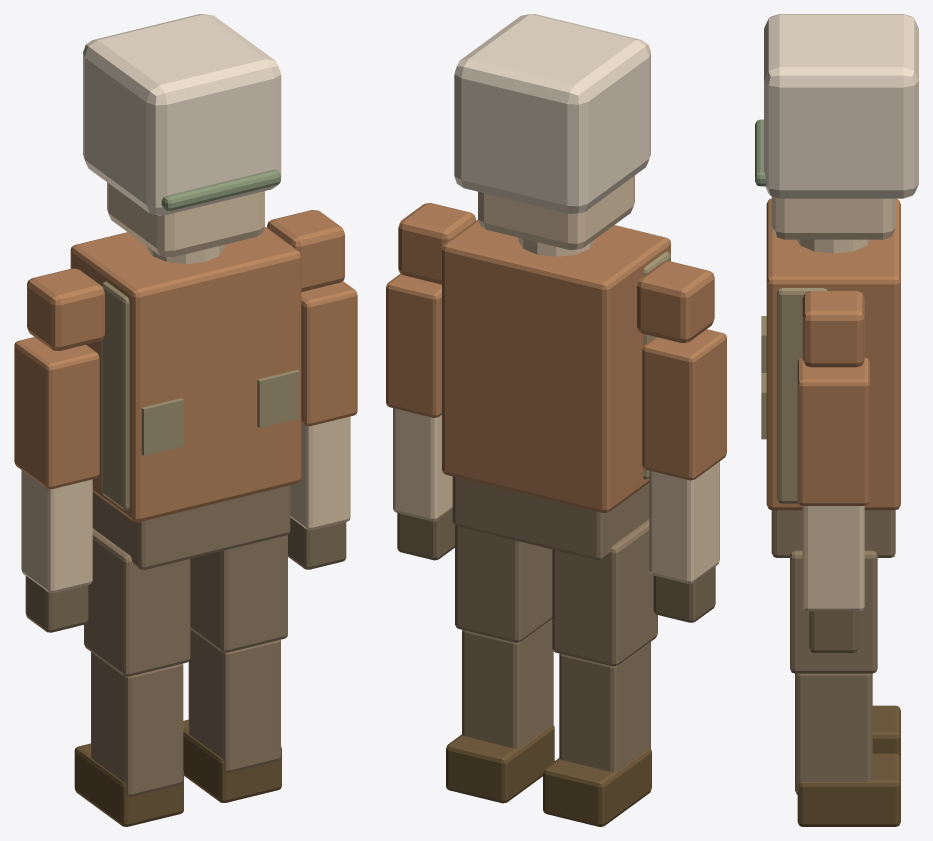
Rendered from soldier_t.glb.
3 renders of one model, left to right at view 1: azimuth 30°, elevation 25°; view 2: azimuth 150°, elevation 25°; view 3: azimuth 270°, elevation 25°, orthographic.
Visible parts, largest first — view 1: Torso, Keffiyeh, UpperArm_L, UpperLeg_L, LowerLeg_L, LowerLeg_R, UpperLeg_R, Pelvis, UpperArm_R, ForeArm_L, Head, Vest (+11 smaller); view 2: Torso, Keffiyeh, UpperArm_L, UpperLeg_L, LowerLeg_L, LowerLeg_R, UpperLeg_R, Pelvis, UpperArm_R, ForeArm_L, Boot_L, Head (+7 smaller); view 3: Keffiyeh, Torso, UpperArm_R, LowerLeg_R, ForeArm_R, Boot_R, UpperLeg_R, Head, Vest, Shoulder_R, Pelvis, Hand_R (+5 smaller).
Boxes of the visible parts, box(x1,y1,x2,y2) form: Torso: box(70, 226, 301, 522); Keffiyeh: box(83, 14, 281, 215); UpperArm_L: box(14, 337, 99, 489); UpperLeg_L: box(84, 528, 190, 676); LowerLeg_L: box(91, 652, 183, 796); LowerLeg_R: box(188, 629, 280, 773); UpperLeg_R: box(190, 535, 287, 652); Pelvis: box(92, 485, 290, 569); UpperArm_R: box(301, 281, 357, 426); ForeArm_L: box(21, 470, 92, 593); Head: box(107, 182, 264, 257); Vest: box(101, 281, 129, 510); Torso: box(442, 219, 670, 512); Keffiyeh: box(454, 14, 650, 213); UpperArm_L: box(642, 329, 726, 480); UpperLeg_L: box(552, 519, 657, 666); LowerLeg_L: box(559, 642, 650, 772); LowerLeg_R: box(462, 619, 553, 748); UpperLeg_R: box(455, 525, 552, 642); Pelvis: box(452, 476, 649, 560); UpperArm_R: box(386, 273, 441, 417); ForeArm_L: box(649, 461, 719, 583); Boot_L: box(543, 748, 651, 826); Head: box(478, 175, 634, 250); Keffiyeh: box(764, 14, 918, 198); Torso: box(766, 198, 900, 510); UpperArm_R: box(797, 357, 869, 505); LowerLeg_R: box(795, 673, 872, 794); ForeArm_R: box(802, 506, 864, 611); Boot_R: box(797, 753, 900, 826); UpperLeg_R: box(790, 550, 877, 673); Head: box(771, 196, 895, 239); Vest: box(777, 288, 827, 503); Shoulder_R: box(802, 291, 864, 367); Pelvis: box(771, 510, 895, 557); Hand_R: box(809, 611, 858, 652).
Size of the model in its own units: 0.7 by 1.6 by 0.3175.
